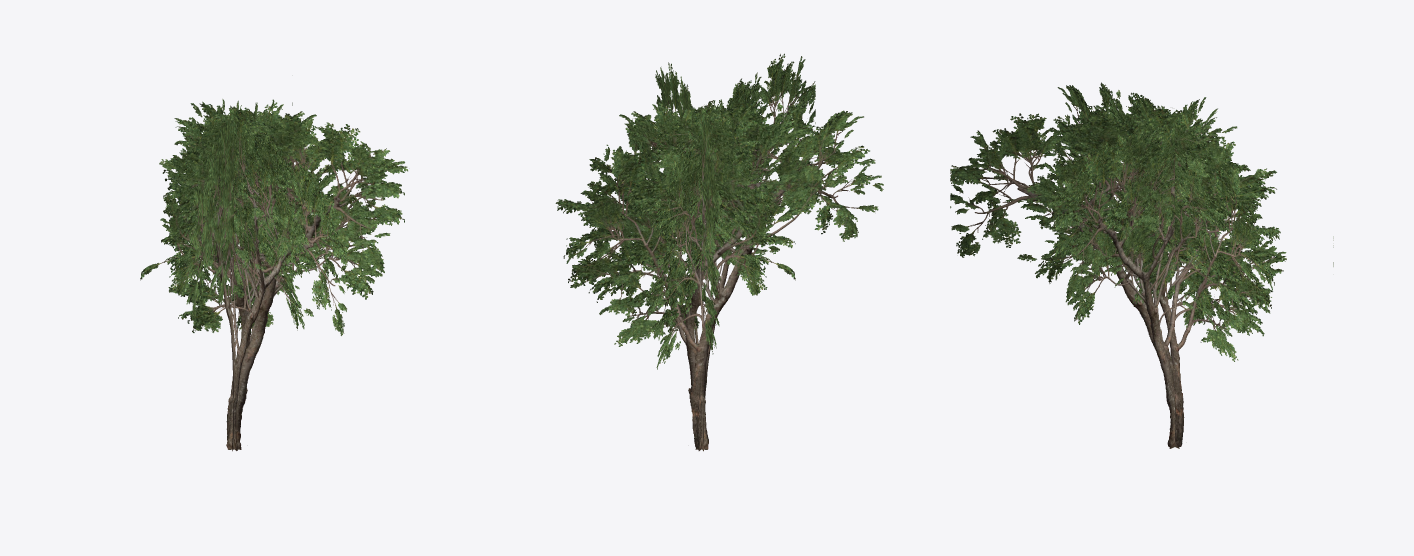
File: tree_broadleaf_lod0.glb
3 renders of one model, left to right at view 1: azimuth 30°, elevation 25°; view 2: azimuth 150°, elevation 25°; view 3: azimuth 270°, elevation 25°, orthographic.
Parts seen in each view (by area): view 1: tree_broadleaf; view 2: tree_broadleaf; view 3: tree_broadleaf.
Part boxes in pixels (left/top/right/bottom): tree_broadleaf: left=140, top=99, right=407, bottom=451; tree_broadleaf: left=555, top=53, right=883, bottom=451; tree_broadleaf: left=950, top=82, right=1333, bottom=448.
Bounding box in the file's own units: 5.49 × 4.56 × 5.49.
Materials: 1 (1 with a texture image).
